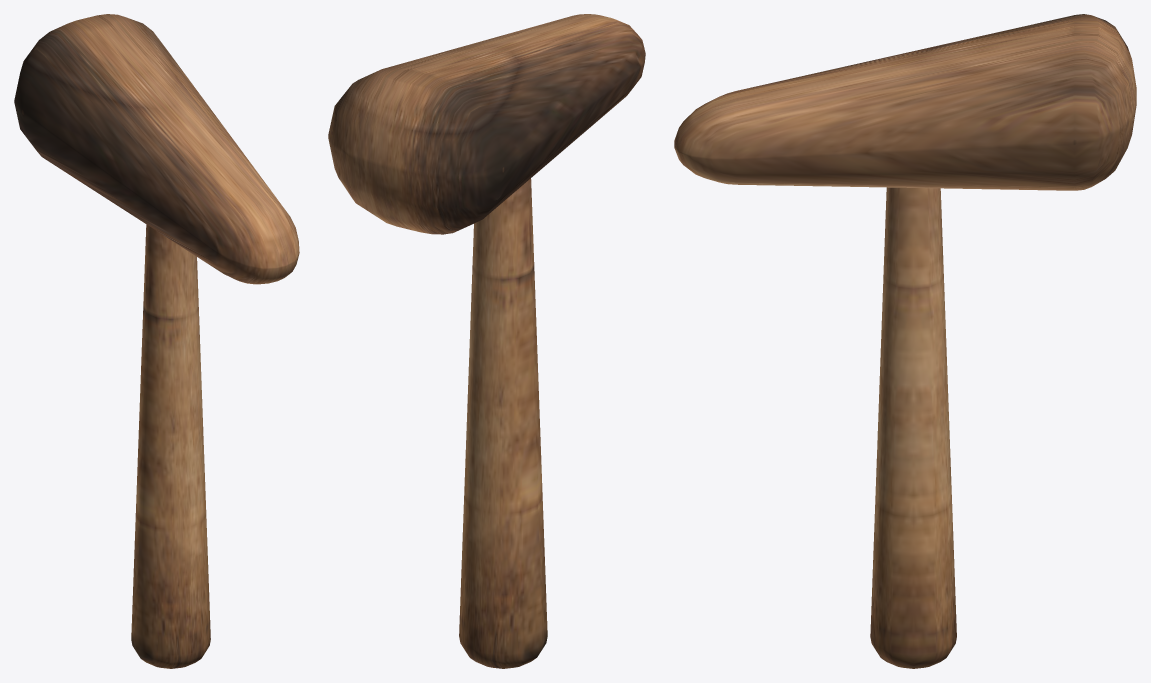
The model's file is new_pemukul_peking.FBX.
The picture shows the model from 3 angles, left to right: view 1: azimuth 30°, elevation 25°; view 2: azimuth 150°, elevation 25°; view 3: azimuth 270°, elevation 25°; orthographic projection. The views are drawn at different scales.
Visible parts, largest first — view 1: Capsule01; view 2: Capsule01; view 3: Capsule01.
Part boxes in pixels (x1=…): Capsule01: x1=14, y1=14, x2=299, y2=668; Capsule01: x1=328, y1=14, x2=645, y2=668; Capsule01: x1=674, y1=14, x2=1136, y2=668.
Size of the model in its own units: 2.46 by 9.21 by 6.08.
